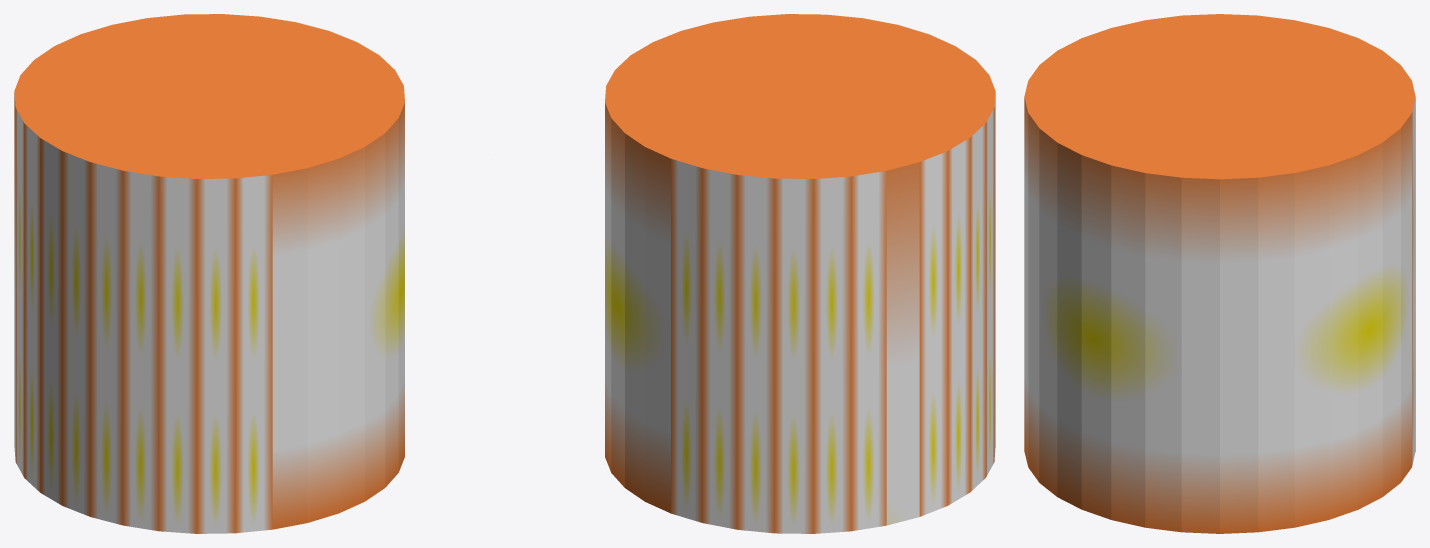
File: beacon1.obj
3 renders of one model, left to right at view 1: azimuth 30°, elevation 25°; view 2: azimuth 150°, elevation 25°; view 3: azimuth 270°, elevation 25°, orthographic.
Visible parts, largest first — view 1: Beacon1_Cylinder.001; view 2: Beacon1_Cylinder.001; view 3: Beacon1_Cylinder.001.
Part boxes in pixels (x1=…): Beacon1_Cylinder.001: x1=14, y1=14, x2=404, y2=533; Beacon1_Cylinder.001: x1=605, y1=14, x2=995, y2=533; Beacon1_Cylinder.001: x1=1024, y1=14, x2=1415, y2=533.
Bounding box in the file's own units: 0.002 × 0.00151 × 0.00151.
